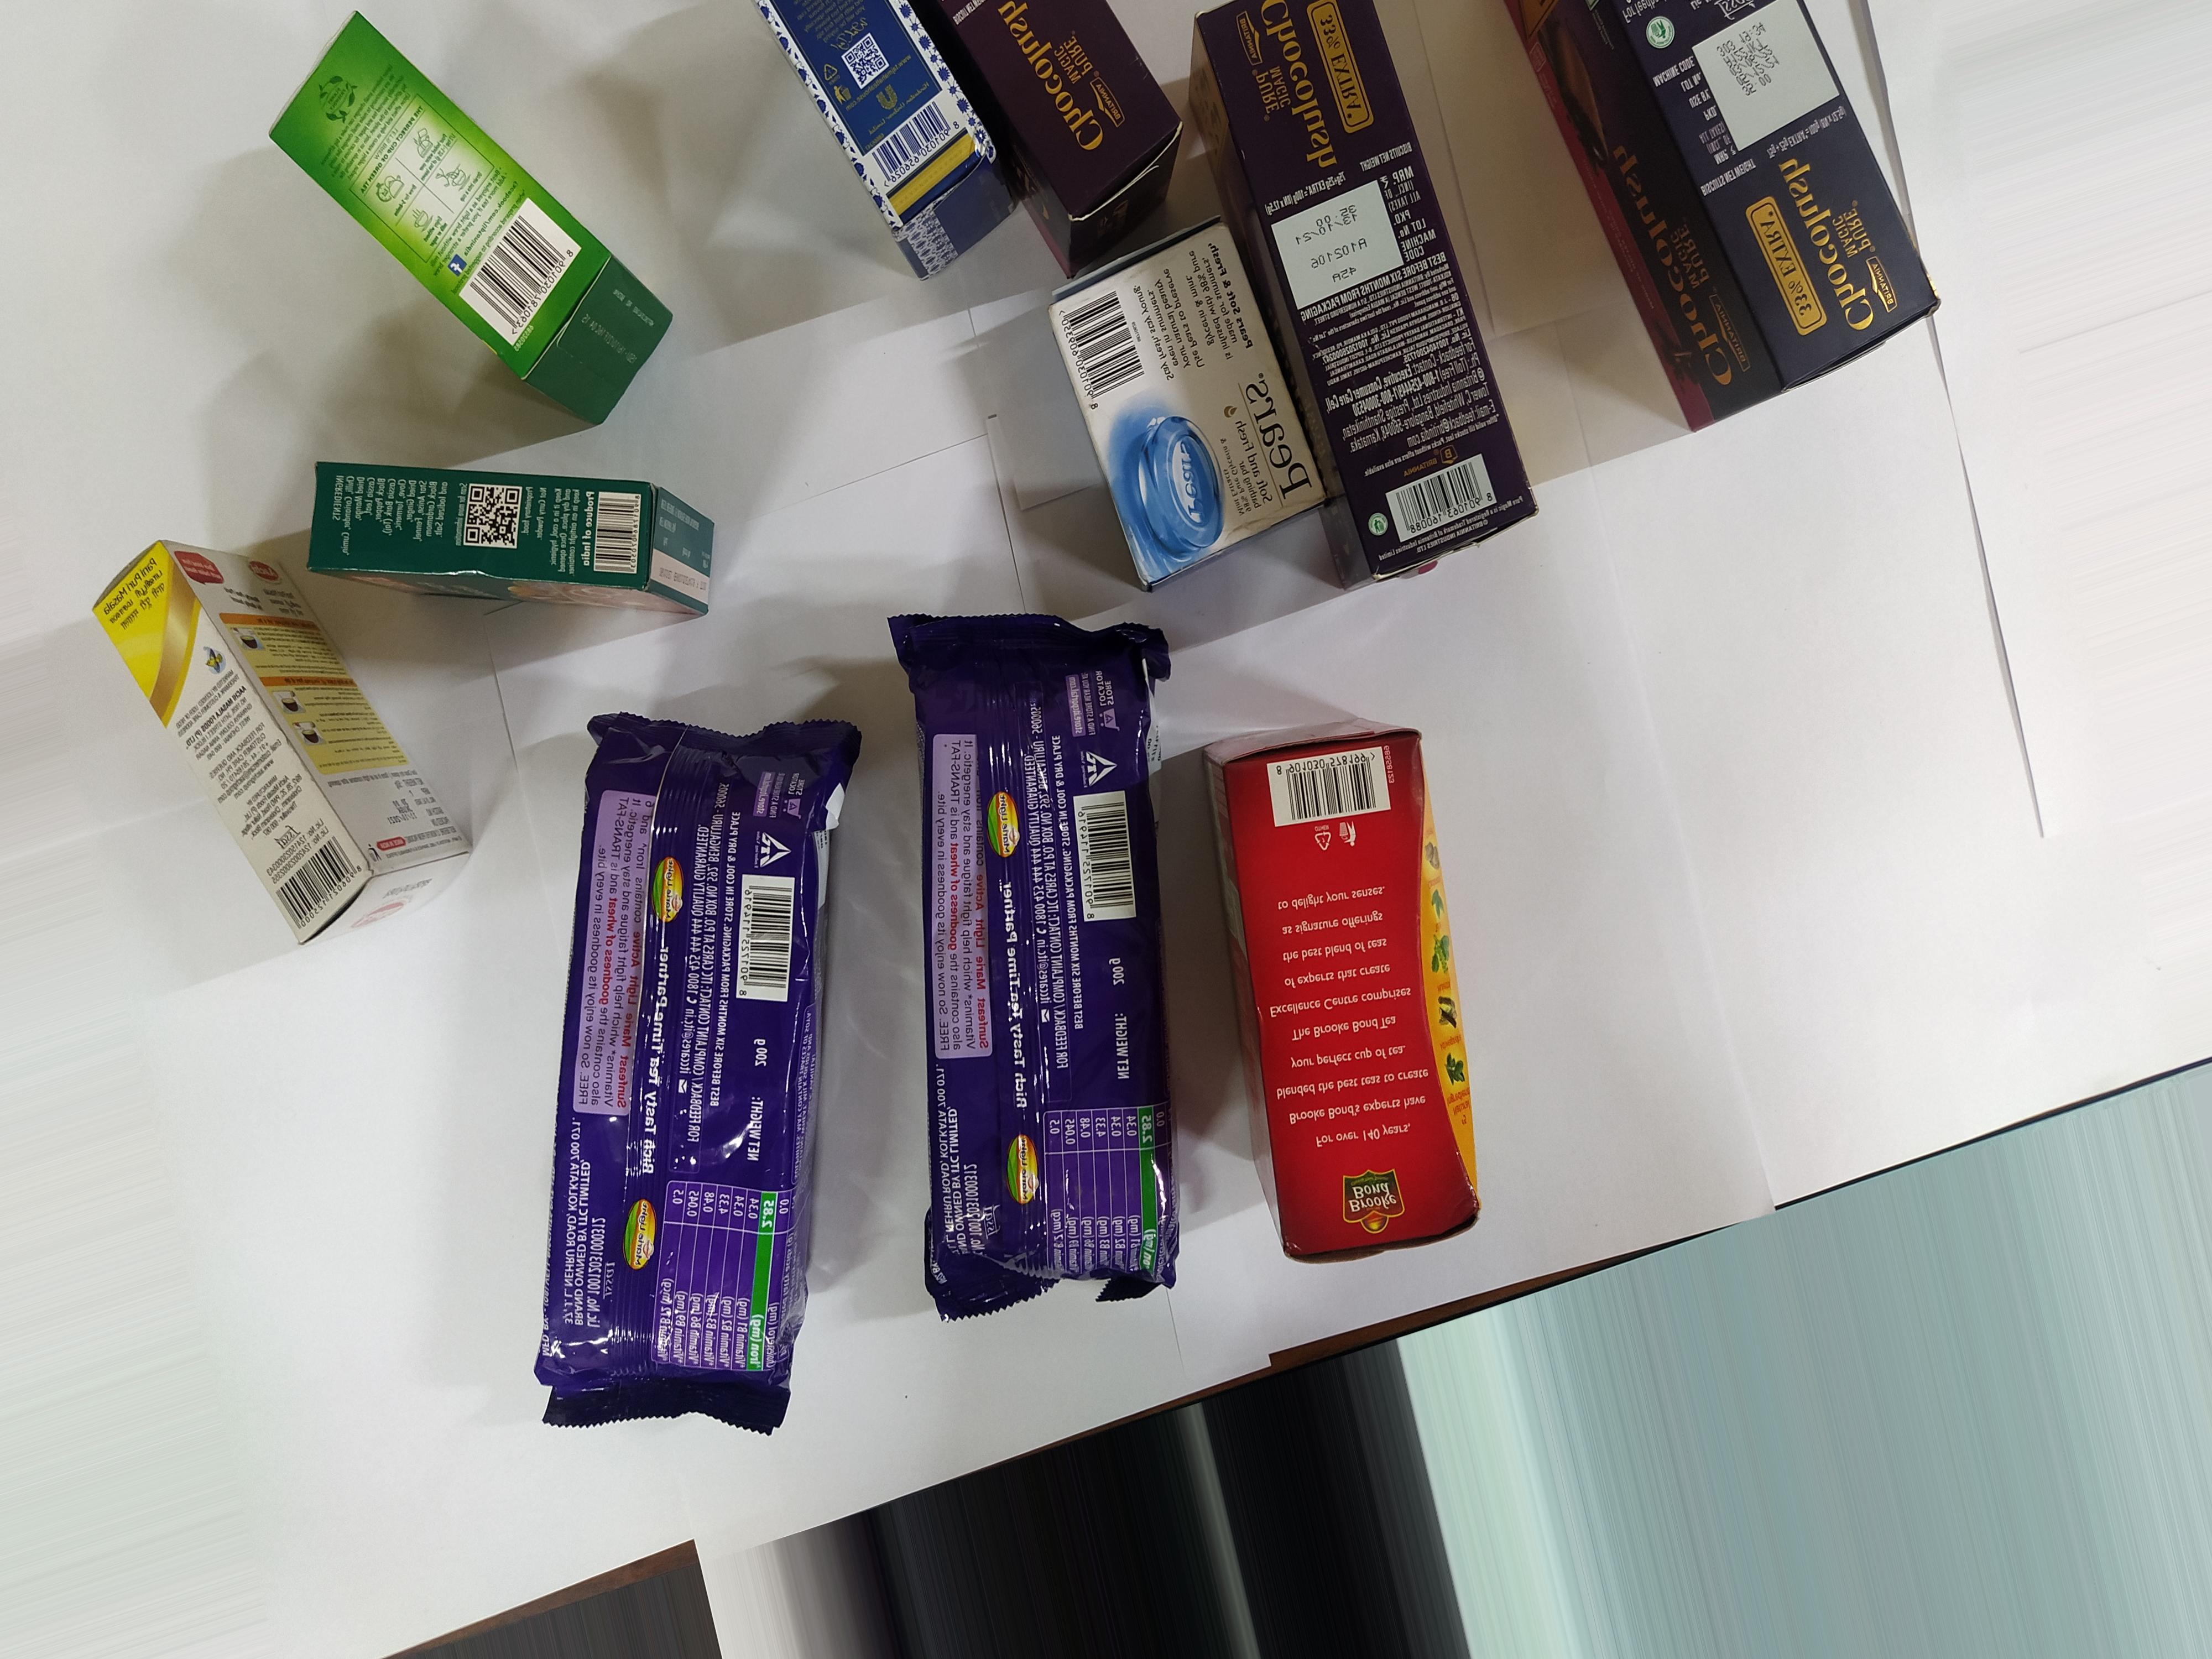Bar_code: (442, 183, 599, 368), (253, 833, 385, 943), (1362, 453, 1515, 544), (718, 863, 805, 1021), (1057, 781, 1144, 936), (853, 101, 977, 206), (1050, 286, 1155, 410), (1254, 744, 1402, 824), (592, 477, 650, 580)
Item: (526, 709, 855, 1476), (897, 563, 1202, 1340), (1198, 0, 1561, 579), (1508, 0, 1965, 448), (1183, 678, 1505, 1288), (239, 0, 678, 444), (87, 521, 481, 955), (1029, 232, 1357, 613), (266, 427, 732, 638), (775, 0, 1021, 296), (937, 0, 1191, 263)
QR_code: (448, 467, 521, 549), (841, 40, 904, 89)
